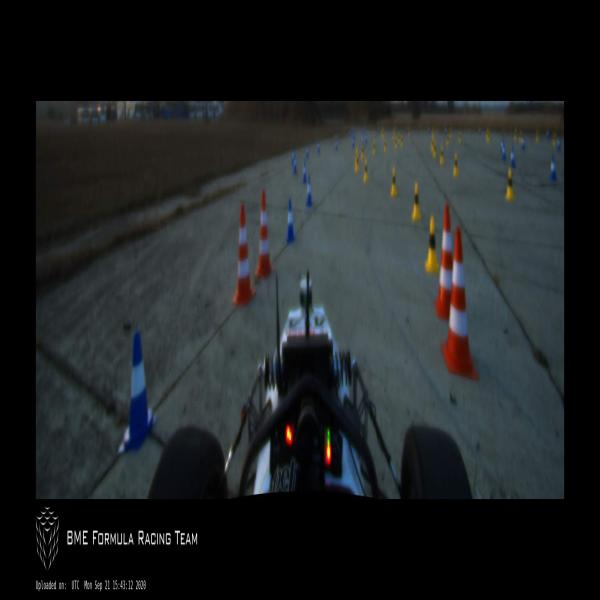blue_cone: (117, 331, 158, 454), (286, 199, 296, 242), (305, 175, 312, 206), (550, 155, 557, 181), (292, 154, 298, 174), (302, 160, 307, 183), (510, 147, 515, 168), (502, 144, 506, 160), (291, 150, 295, 164), (546, 125, 550, 138), (306, 144, 309, 159), (317, 139, 320, 154), (335, 137, 338, 151), (522, 137, 525, 147), (501, 139, 503, 153), (558, 136, 560, 150), (479, 125, 482, 134), (352, 136, 354, 146), (353, 130, 355, 139), (406, 124, 408, 133), (428, 126, 430, 134), (362, 136, 364, 143), (363, 128, 365, 135), (445, 126, 447, 133), (349, 131, 351, 137), (394, 125, 396, 131), (366, 136, 367, 144)
large_orange_cone: (441, 228, 478, 379), (232, 206, 255, 305), (435, 206, 452, 316), (255, 192, 274, 278)
yellow_cone: (424, 216, 438, 272), (412, 182, 421, 220), (505, 167, 515, 200), (390, 168, 398, 197), (453, 154, 458, 176), (364, 158, 368, 182), (440, 146, 444, 164), (433, 143, 437, 157), (553, 132, 557, 146), (514, 127, 518, 141), (355, 146, 358, 164), (372, 140, 375, 156), (361, 144, 364, 159), (487, 128, 490, 142), (447, 133, 450, 146), (356, 154, 358, 172), (459, 132, 462, 144), (536, 128, 539, 140), (384, 138, 386, 152), (520, 130, 522, 144), (450, 128, 453, 137), (395, 138, 397, 149), (398, 132, 400, 143), (401, 136, 403, 146), (432, 132, 434, 142), (382, 127, 384, 137), (393, 131, 395, 140), (408, 128, 410, 134)
